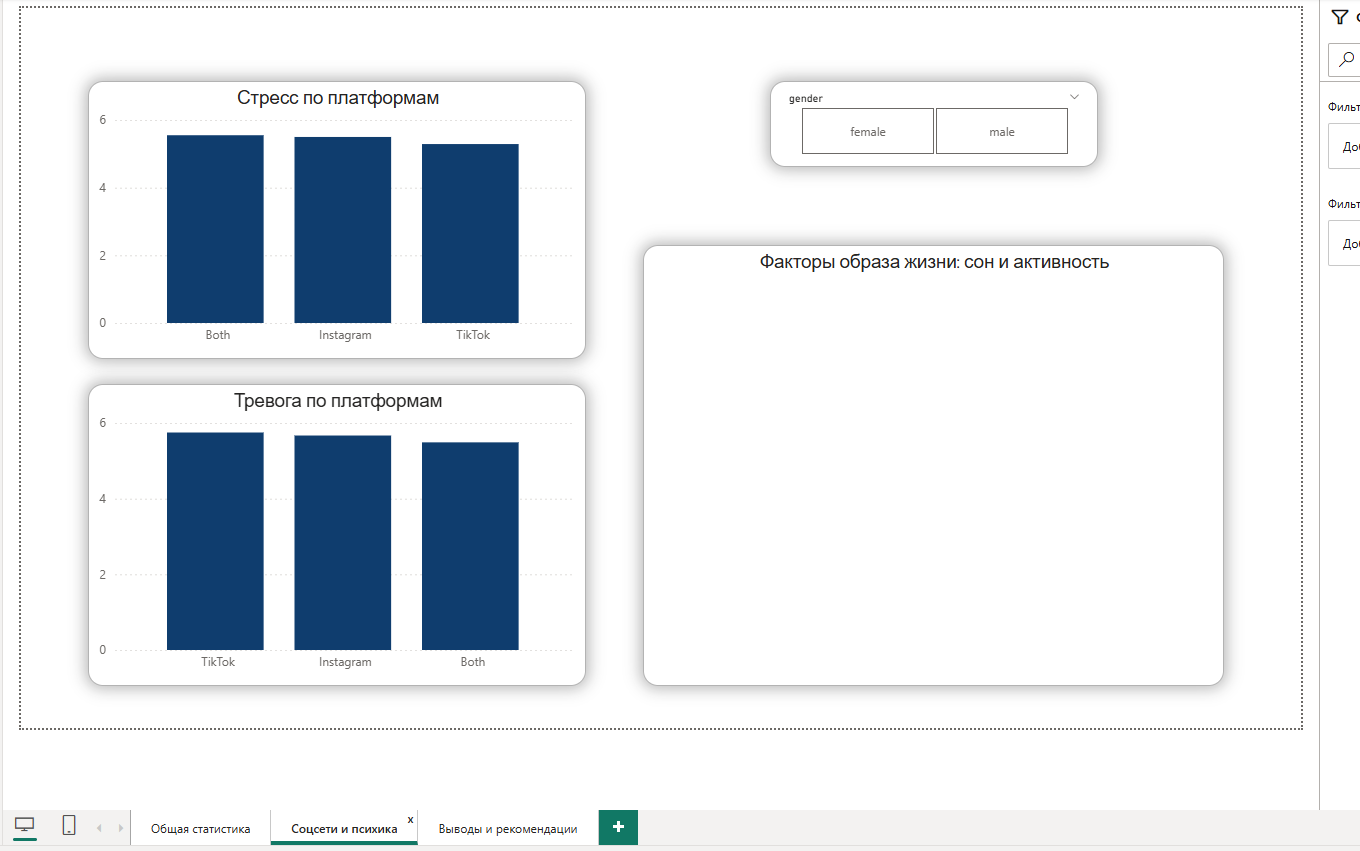

What the dashboard file says about the page in this screenshot:
{"tool":"powerbi","page":{"name":"Соцсети и психика","canvas":[1280,720],"ordinal":1},"visuals":[{"type":"boxPloty6C987A9E682A4A859272BFEC966AF372","title":"Факторы образа жизни: сон и активность","fields":{"category":["Teen_Mental_Health_Dataset.depression_label"],"measure":["Teen_Mental_Health_Dataset.anxiety_level"]},"box":[622,237,581,441],"z":0},{"type":"columnChart","title":"Стресс по платформам","fields":{"Category":["Teen_Mental_Health_Dataset.platform_usage"],"Y":["Avg(Teen_Mental_Health_Dataset.stress_level)"]},"box":[67,73,498,278],"z":1},{"type":"columnChart","title":"Тревога по платформам","fields":{"Category":["Teen_Mental_Health_Dataset.platform_usage"],"Y":["Avg(Teen_Mental_Health_Dataset.anxiety_level)"]},"box":[67,376,498,302],"z":2},{"type":"slicer","fields":{"Values":["Teen_Mental_Health_Dataset.gender"]},"box":[749,73,328,86],"z":3}]}

Visuals, with their boxes on the page's 1280x720 design canvas (x1, y1, x2, y2). These are canvas units, not pixel positions in the 1360x851 screenshot, which may show the page scaled, cropped or inside an application window:
"Факторы образа жизни: сон и активность" boxPloty6C987A9E682A4A859272BFEC966AF372: l=622, t=237, r=1203, b=678
"Стресс по платформам" columnChart: l=67, t=73, r=565, b=351
"Тревога по платформам" columnChart: l=67, t=376, r=565, b=678
slicer - Teen_Mental_Health_Dataset.gender: l=749, t=73, r=1077, b=159
